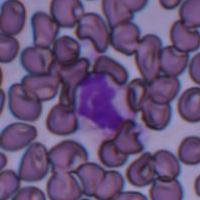N: (75, 72, 136, 138)
